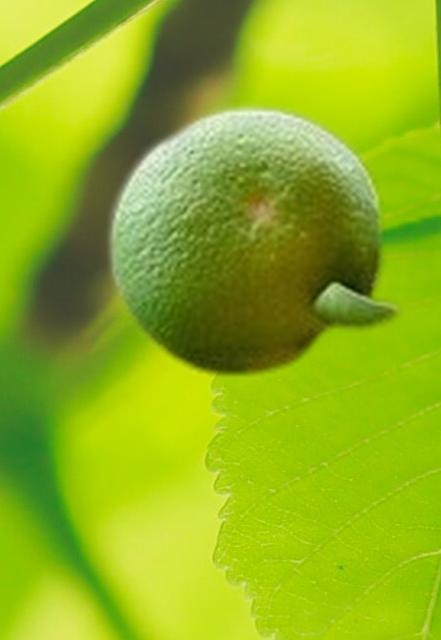dalandan: (103, 99, 405, 378)
